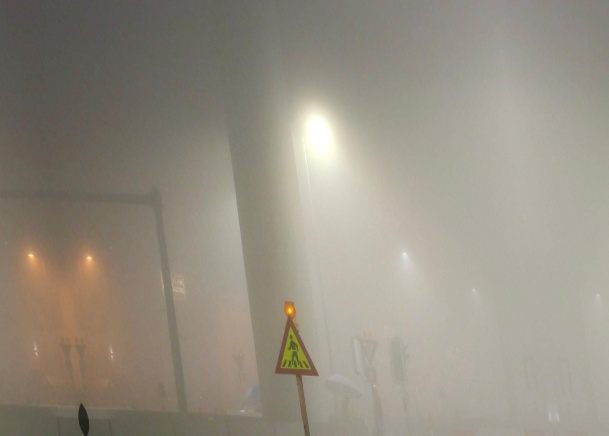Pedestrian crossing: (259, 306, 326, 378)
